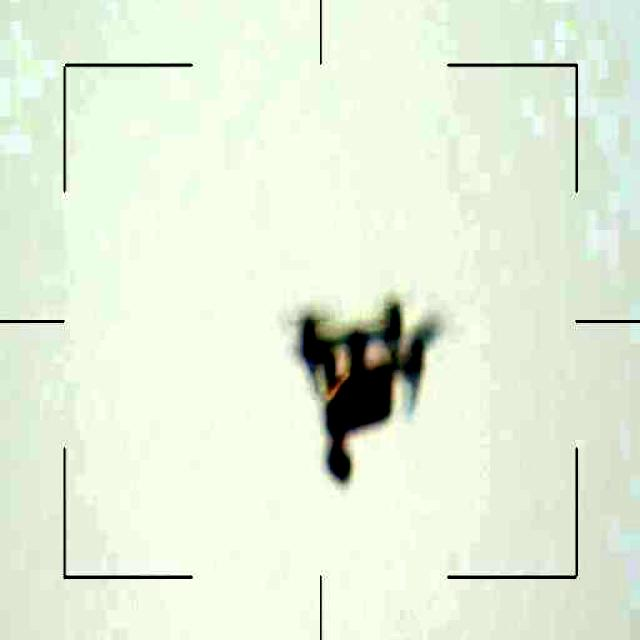bird: (281, 288, 428, 484)
